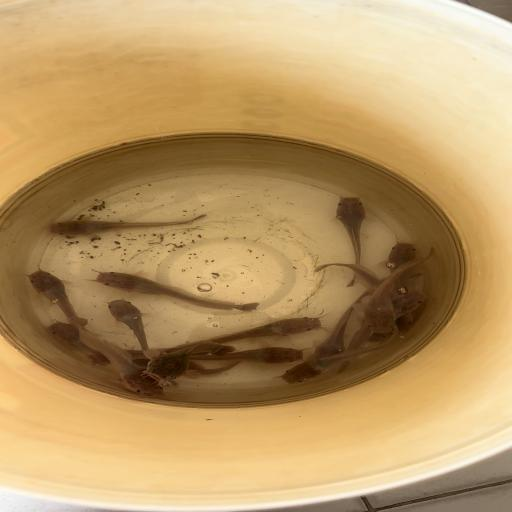lele: (274, 317, 401, 386), (335, 290, 429, 376), (68, 316, 165, 398), (88, 268, 259, 314), (312, 261, 420, 330), (366, 246, 438, 335), (180, 314, 326, 348), (313, 291, 371, 371), (46, 211, 208, 236), (141, 342, 235, 380), (23, 270, 86, 324), (334, 194, 367, 288), (82, 348, 208, 371), (100, 299, 156, 348), (40, 316, 104, 353), (132, 355, 244, 376), (187, 346, 305, 364), (385, 238, 423, 293)
